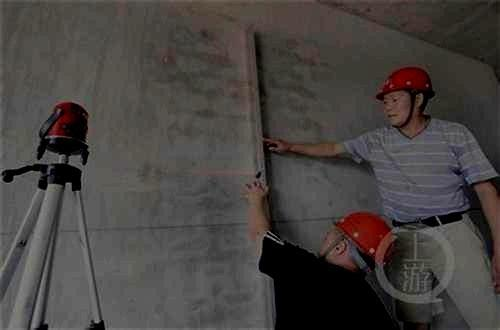helmet: (319, 208, 396, 275), (375, 64, 436, 127)
